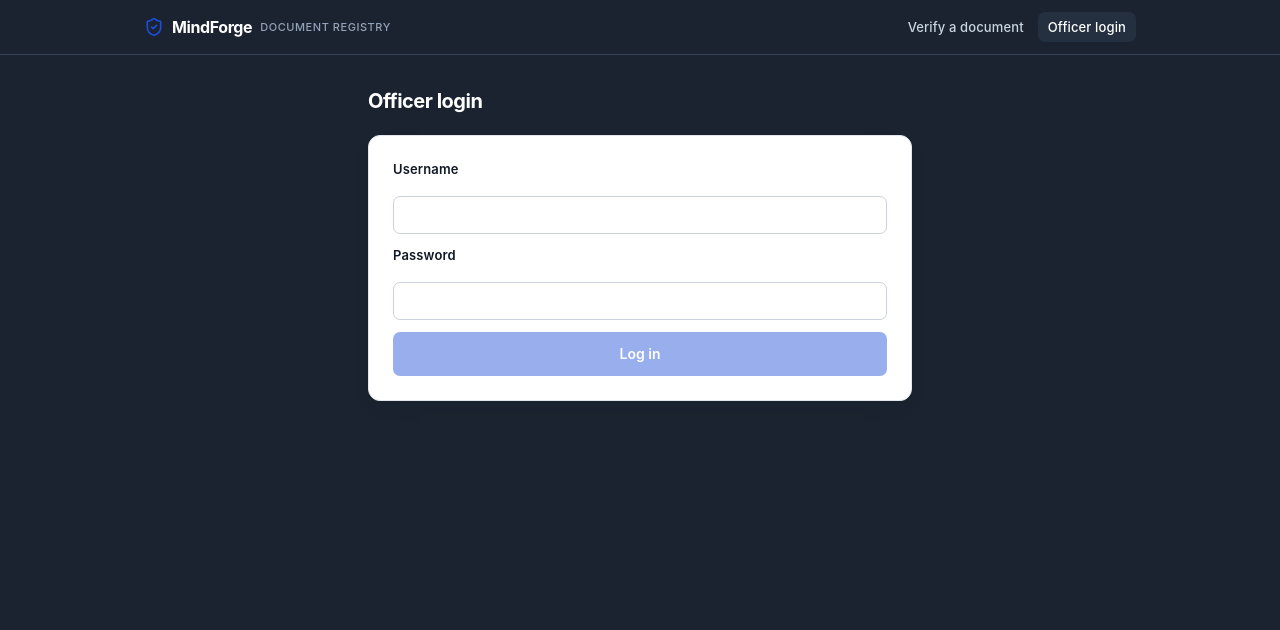
routing and access › logging in shows the dashboard, and logging out hides it again
In the field labelled "Username": (640, 215) [393, 196, 887, 234], type "officer"
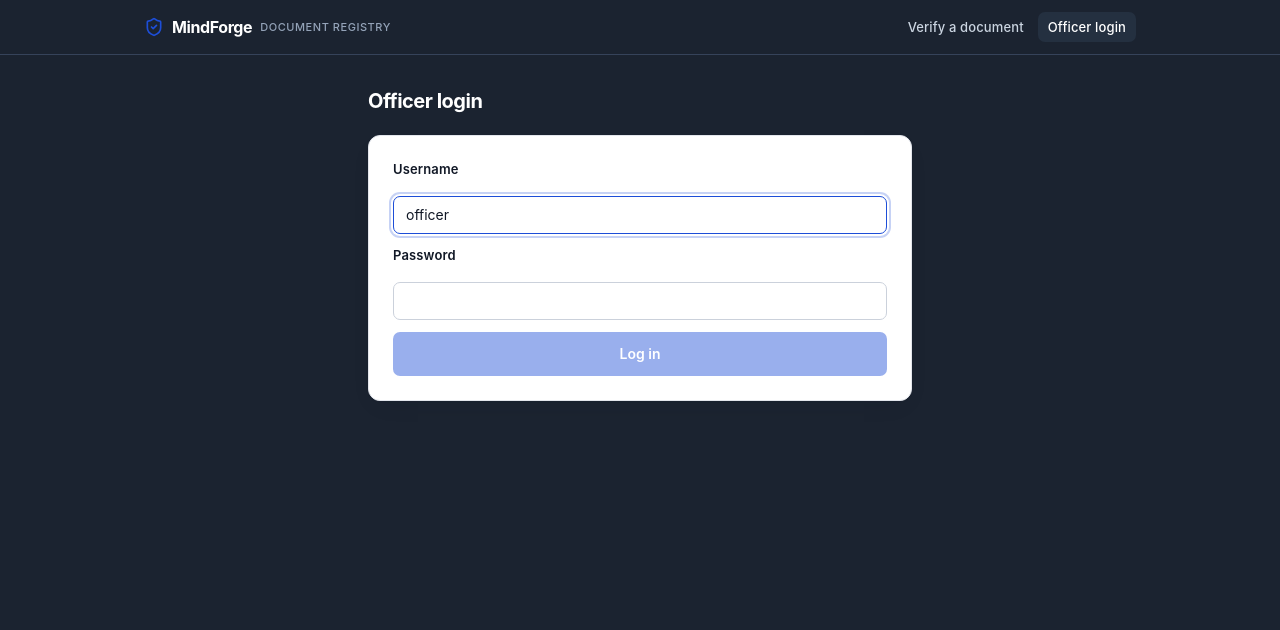
In the password field labelled "Password": (640, 301) [393, 282, 887, 320], type "correct horse"
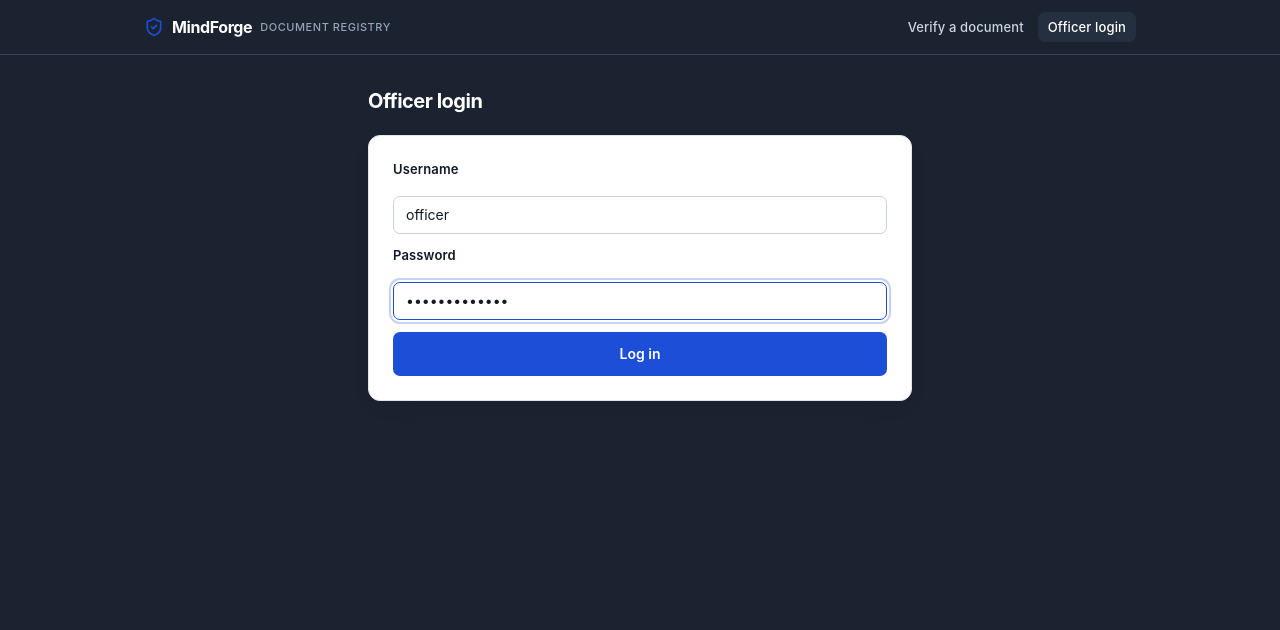
Click the button "Log in": (640, 354) [393, 332, 887, 376]
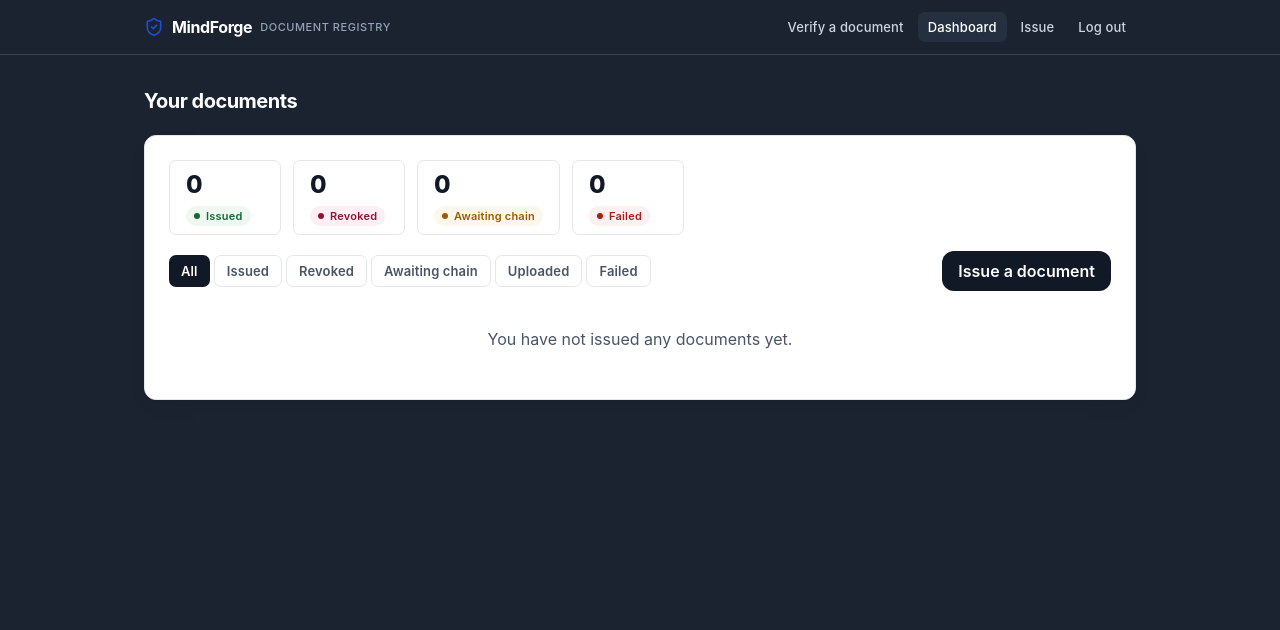
Check: the heading "Your documents" is shown, box [144, 89, 297, 113]
Click the button "Log out": (1102, 27) [1068, 12, 1136, 42]
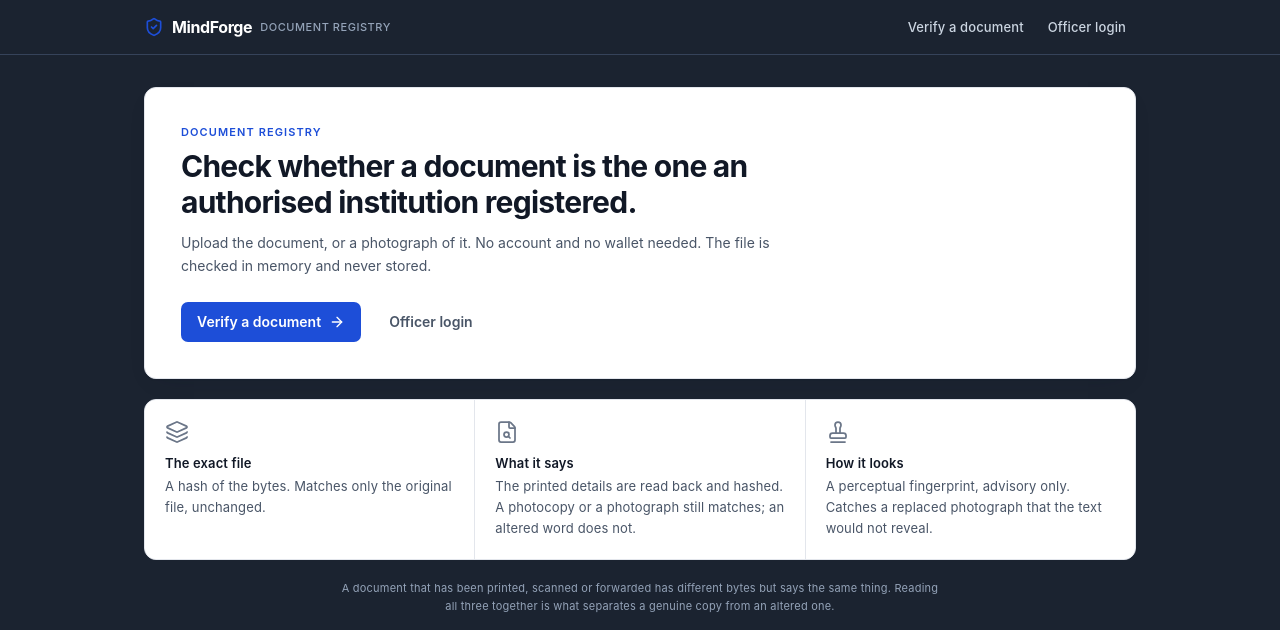
Check: the heading "authorised institution registered" is shown, box [181, 148, 789, 220]
Check: the heading "Your documents" is gone
Check: the link "Officer login" in the row of "MindForge" is shown, box [1048, 19, 1126, 35]
